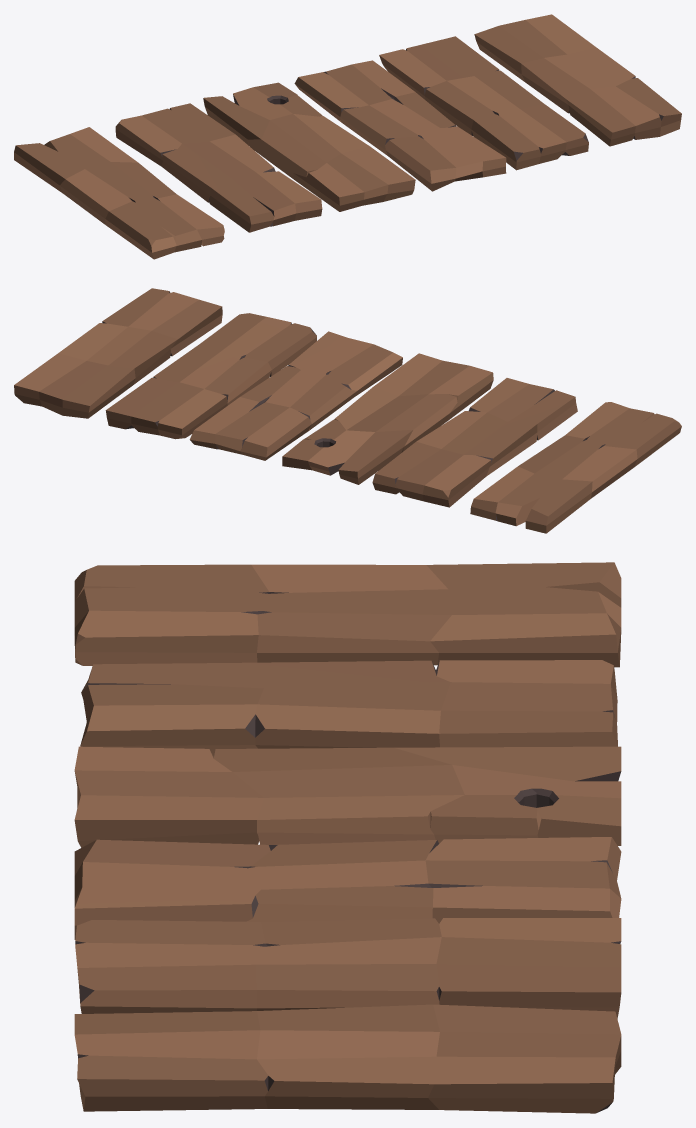
Rendered from wood.fbx.
The picture shows the model from 3 angles, top to bottom: view 1: azimuth 30°, elevation 25°; view 2: azimuth 150°, elevation 25°; view 3: azimuth 270°, elevation 25°; orthographic projection. The views are drawn at different scales.
Visible parts, largest first — view 1: plankt 3, plank3, plank4, plank1, plank2, plank 5; view 2: plankt 3, plank1, plank3, plank4, plank2, plank 5; view 3: plankt 3, plank1, plank3, plank4, plank2, plank 5.
Part boxes in pixels (x1,y1,x2,y2): plankt 3: (474,14,681,146); plank3: (203,82,415,211); plank4: (379,36,588,170); plank1: (14,127,224,259); plank2: (115,103,322,232); plank 5: (294,60,506,191); plankt 3: (14,288,222,418); plank1: (470,402,681,533); plank3: (282,353,493,484); plank4: (105,313,316,439); plank2: (372,378,577,507); plank 5: (189,331,402,460); plankt 3: (74,1004,621,1113); plank1: (74,562,621,667); plank3: (74,746,621,847); plank4: (75,918,621,1018); plank2: (80,660,617,755); plank 5: (74,837,621,939).
Bounding box in the file's own units: 1400 × 53.4 × 620.
